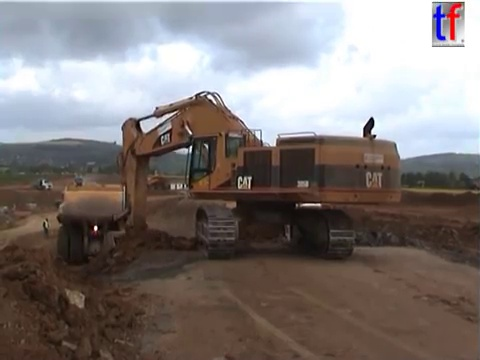excavator: (99, 88, 404, 270)
truck: (53, 182, 139, 265), (137, 169, 170, 193), (29, 177, 54, 193)
worker: (40, 215, 51, 240)
